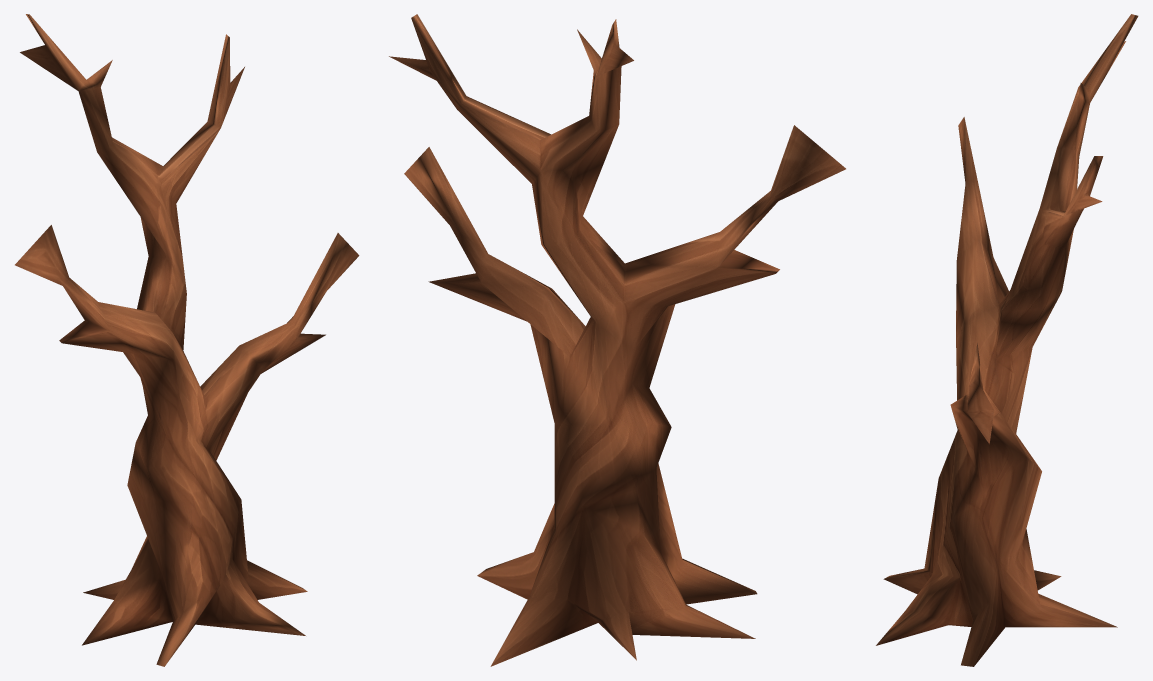
Rendered from Meshy_AI_Twisted_Dryad_0830062013_texture.fbx.
3 renders of one model, left to right at view 1: azimuth 30°, elevation 25°; view 2: azimuth 150°, elevation 25°; view 3: azimuth 270°, elevation 25°, orthographic. The views are drawn at different scales.
Parts seen in each view (by area): view 1: mesh_node; view 2: mesh_node; view 3: mesh_node.
Boxes of the visible parts, <box> form: mesh_node: <box>15,14,359,666</box>; mesh_node: <box>389,14,845,666</box>; mesh_node: <box>876,14,1138,666</box>.
Size of the model in its own units: 65.62 by 99.8 by 42.48.
1 material, 1 textured.
